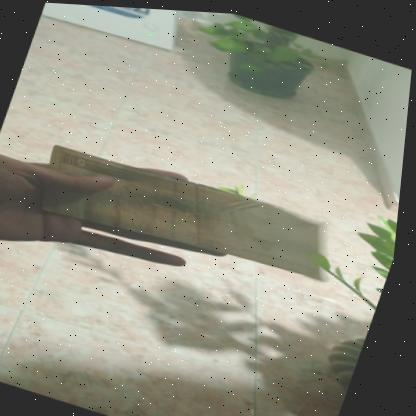five-back-vef: (30, 134, 354, 293)
